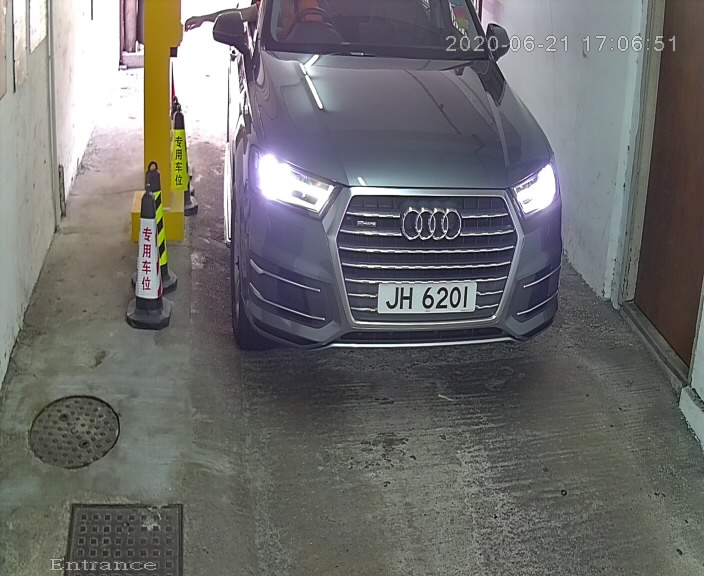privatecar: (200, 2, 593, 389)
